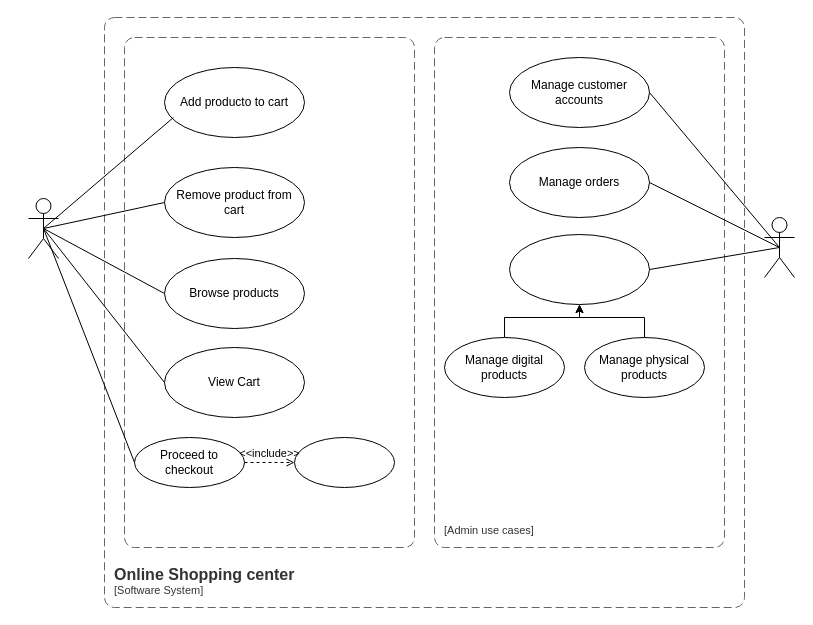
Image size: 813x625. Some labels were removed from this diagram. Here are the shapes that lost their labels. From the top down, the box of each, then its label:
(28, 198, 58, 258): Customer
(764, 216, 794, 278): Admin
(508, 234, 650, 304): Manage products
(124, 36, 414, 548): [Customer use cases]
(294, 436, 394, 488): Manage payment
